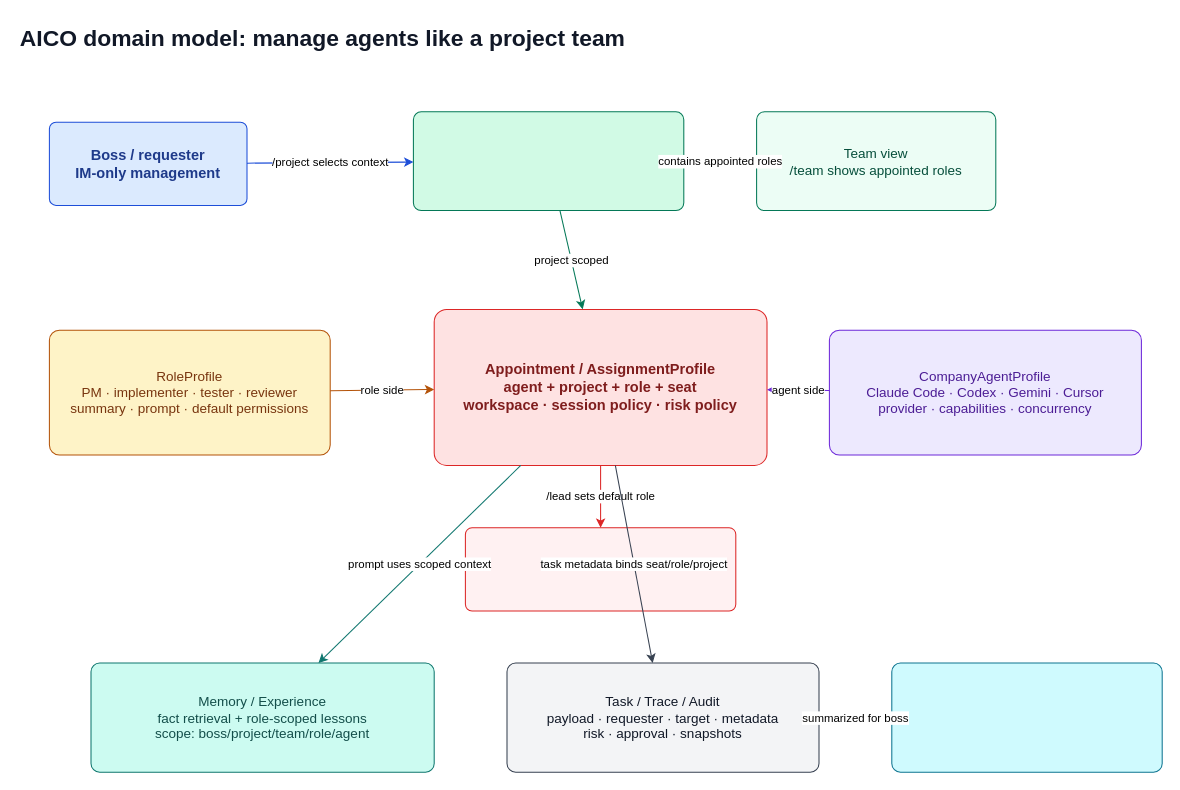
Some shapes in this 1180 by 790 pixel diagram are drawn without their labels. Each missing label, with the centre of its shape:
/view snapshot read-only HTML delivered by IM: the point at 1026,717
Lead is default appointment not a special provider: the point at 600,569
Project repo · docs · phase · default role: the point at 548,161
